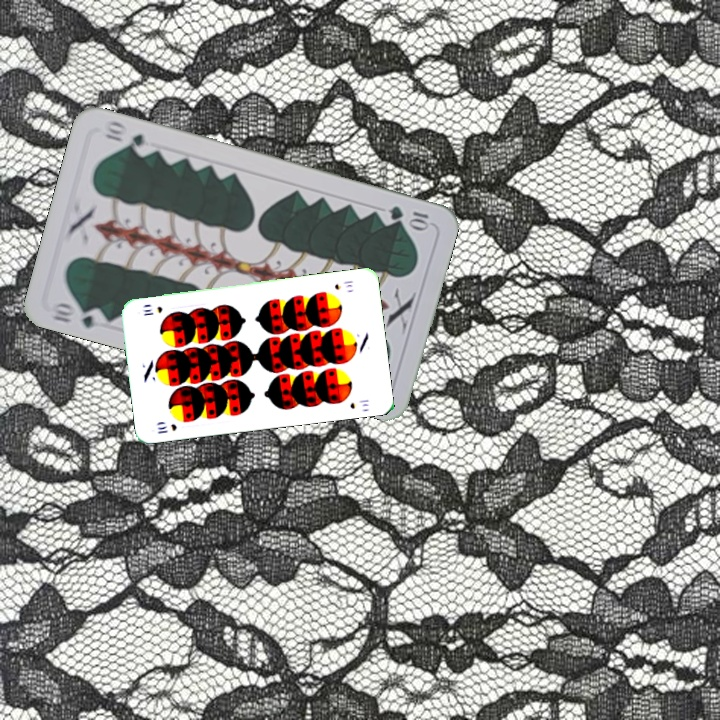G10: (47, 298, 107, 331), (385, 201, 434, 231)
S10: (153, 420, 179, 436), (330, 276, 355, 292)
